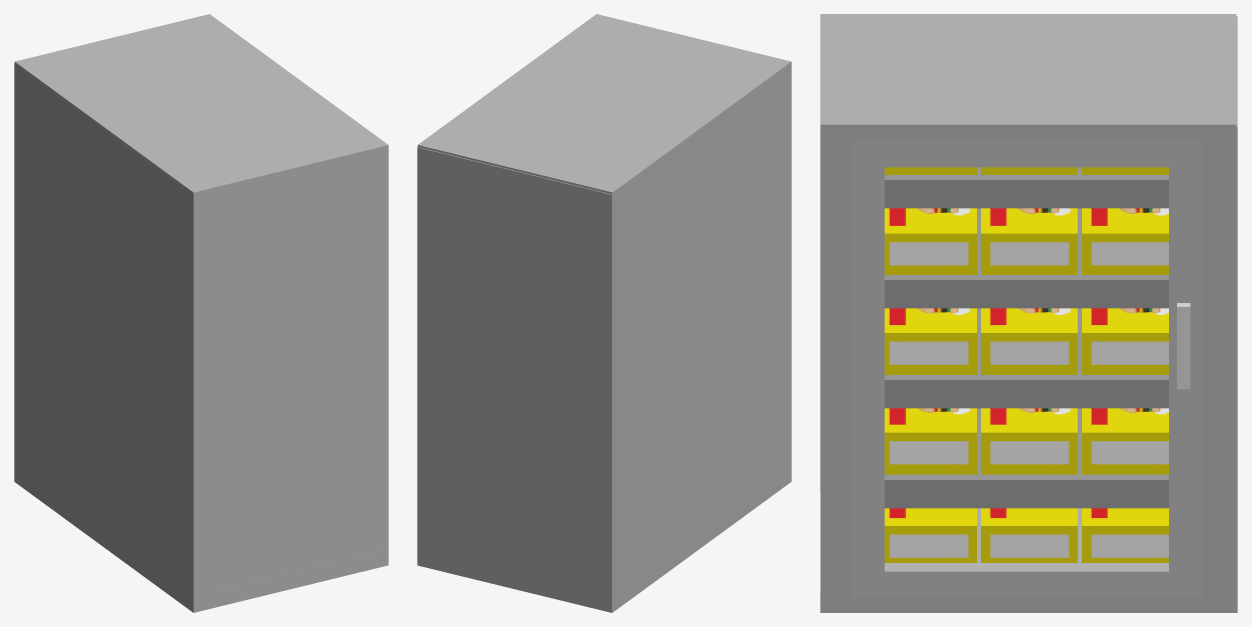
The model's file is beef_burger_fridge.gltf.
3 renders of one model, left to right at view 1: azimuth 30°, elevation 25°; view 2: azimuth 150°, elevation 25°; view 3: azimuth 270°, elevation 25°, orthographic. The views are drawn at different scales.
Parts seen in each view (by area): view 1: fridge.box; view 2: fridge.box; view 3: fridge.box, Lasagna, fridge.door.
Part boxes in pixels (box(x1,y1,x2,y2)): fridge.box: box(14, 14, 388, 612); fridge.box: box(417, 14, 791, 612); fridge.box: box(820, 14, 1237, 612); Lasagna: box(884, 167, 1168, 562); fridge.door: box(851, 141, 1202, 597).
Bounding box in the file's own units: 5.63 × 11.15 × 8.63.
6 materials, 1 textured.
